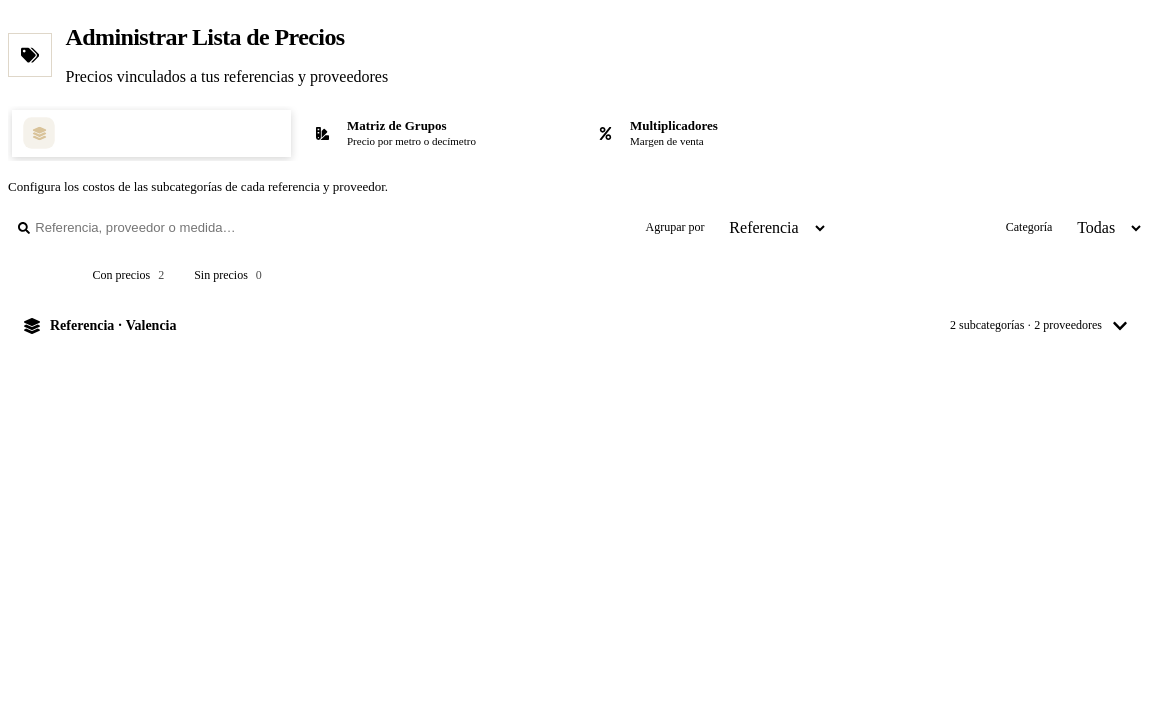
Test case: Una referencia con proveedor independiente por subcategoría › publica directamente una subcategoría del proveedor elegido, sin sección ni modal ni publicar las otras
Click the button with aria-label "Expandir referencia Valencia": [113, 325] box [8,304,1144,348]
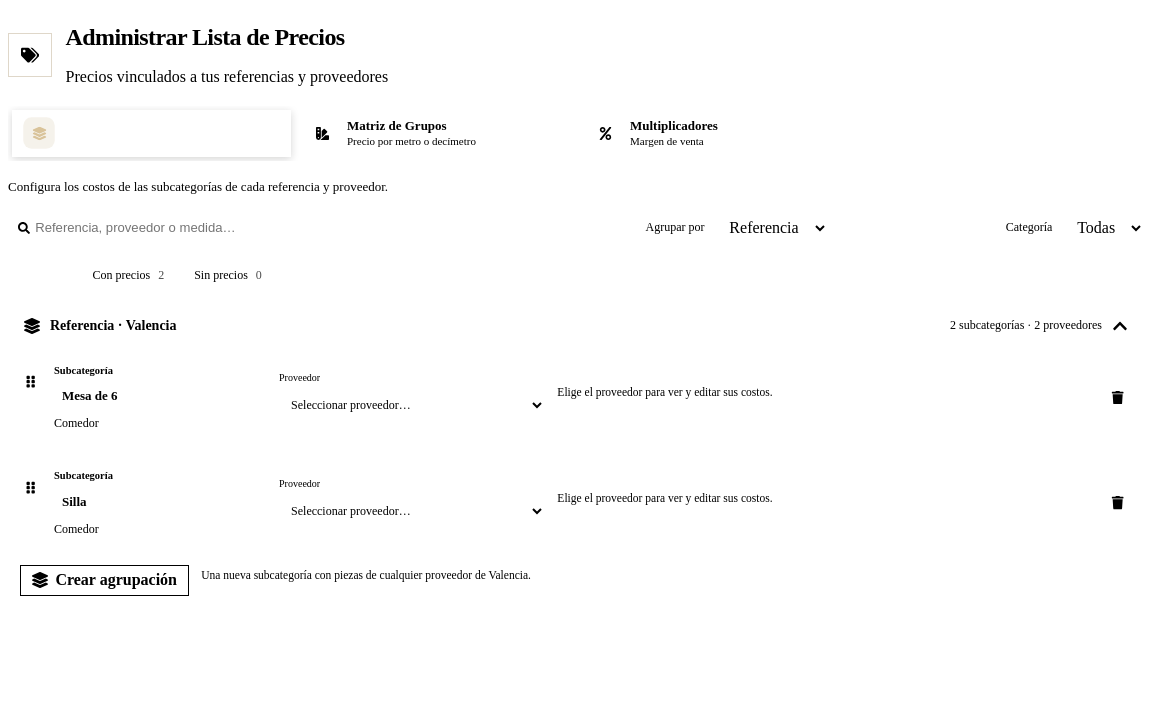
Select "Proveedor 1" in the dropdown named "Proveedor de Mesa de 6": [412, 405] box [279,388,545,422]
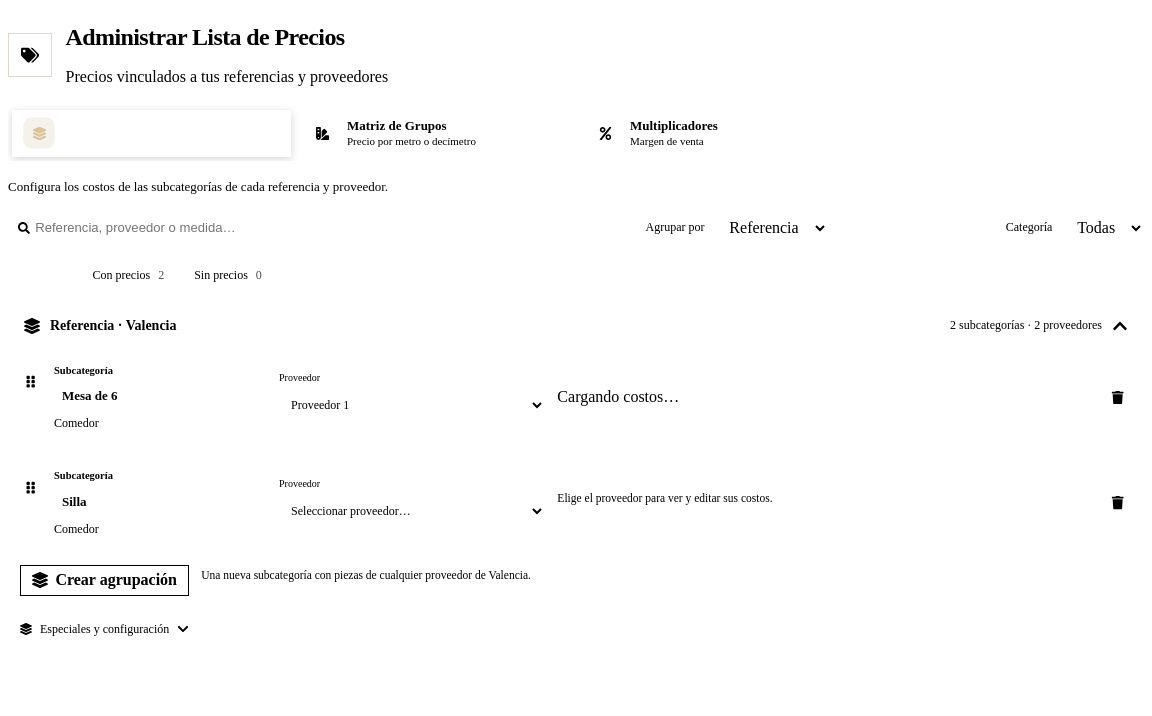
Select "Proveedor 1" in the dropdown named "Proveedor de Silla": [412, 511] box [279,494,545,528]
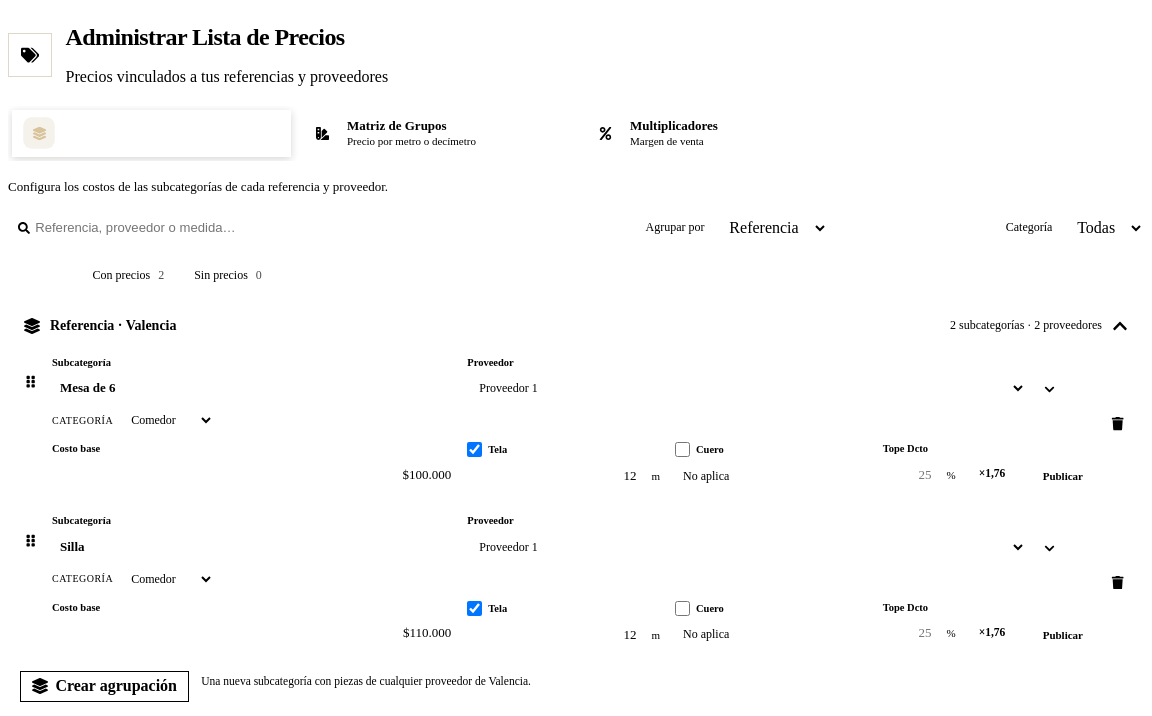
Click the button with aria-label "Publicar Mesa de 6": [1063, 476] box [1034,460,1092,492]
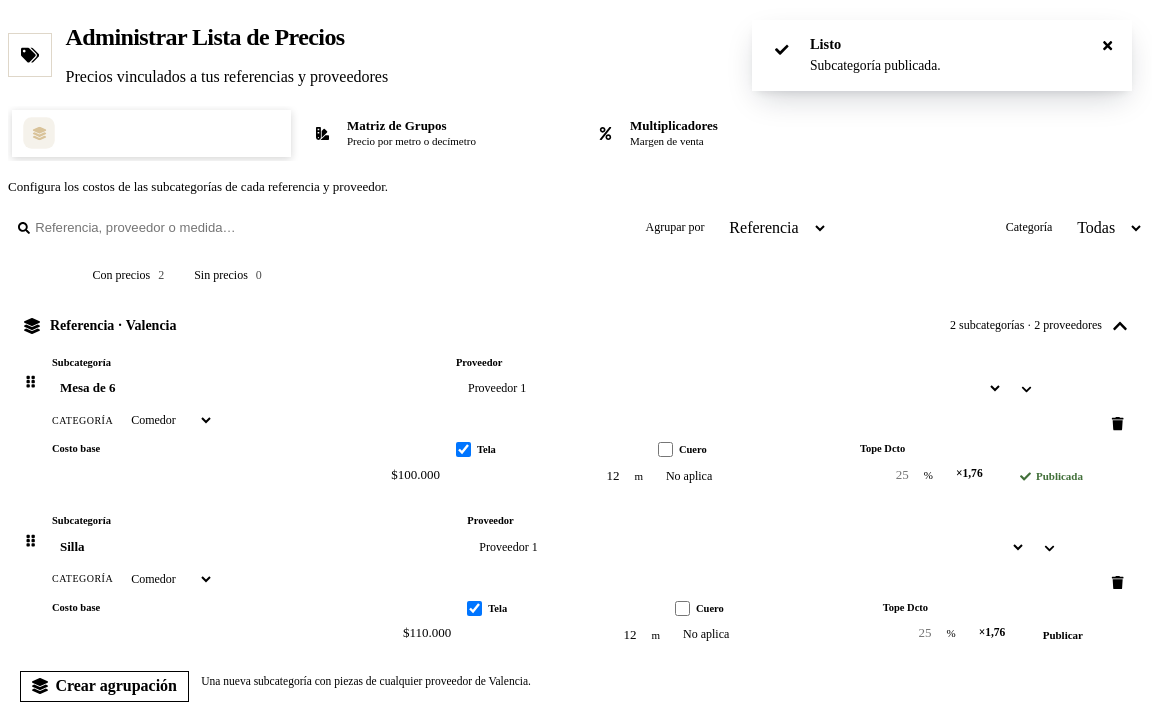
Result: the button with aria-label "Publicar Silla" is shown at [1034,619,1092,651]
Result: the button with aria-label "Quitar publicación de Mesa de 6" reads "Publicada" at [1011,460,1092,492]
